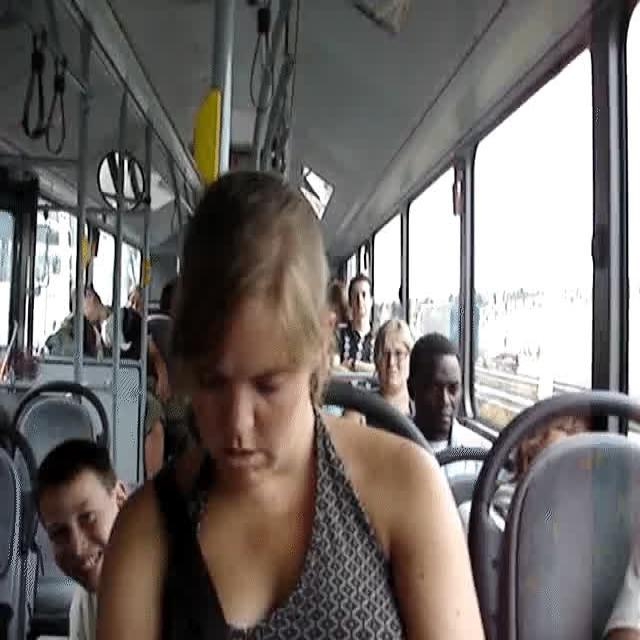no-seatbelt: (178, 163, 341, 494)
